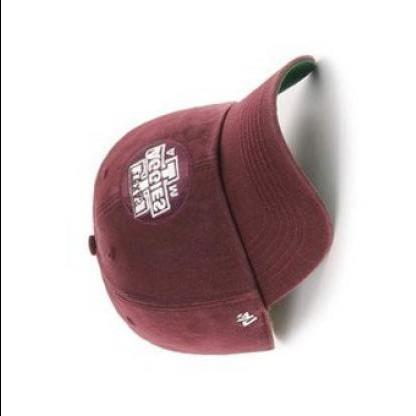cap: (80, 48, 336, 364)
